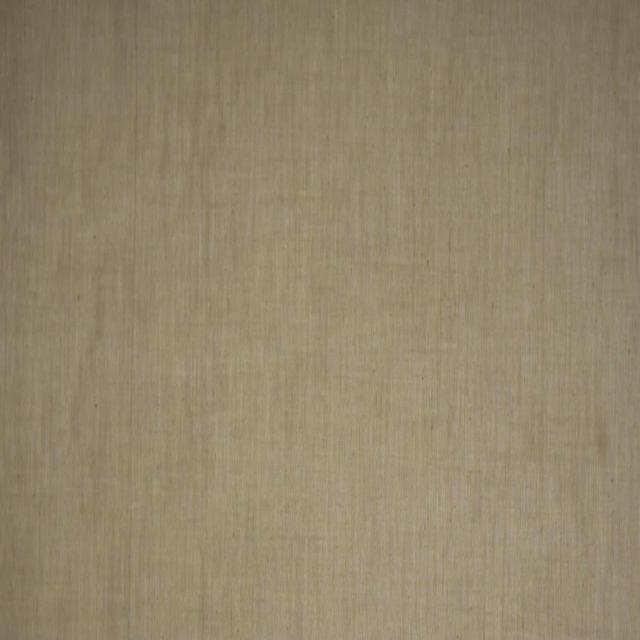dirty: (594, 415, 607, 462)
